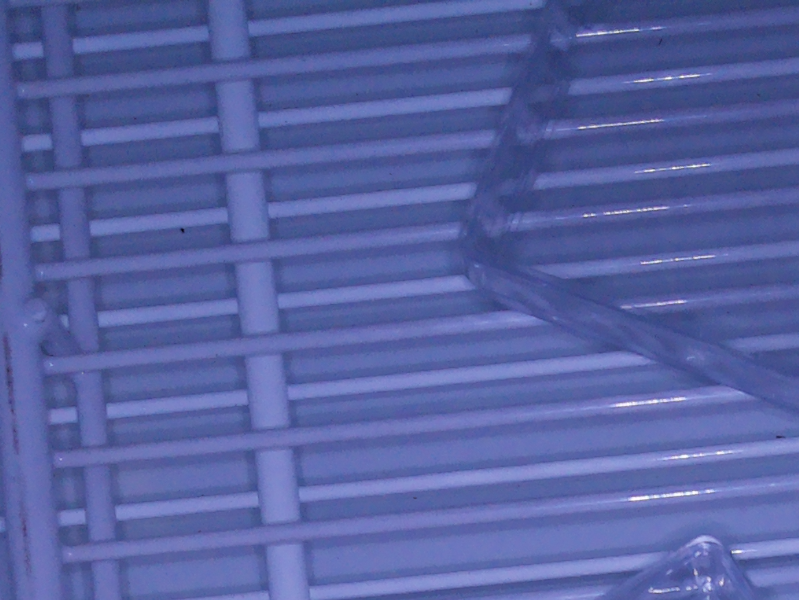plate: (455, 1, 799, 415), (590, 533, 755, 600)
